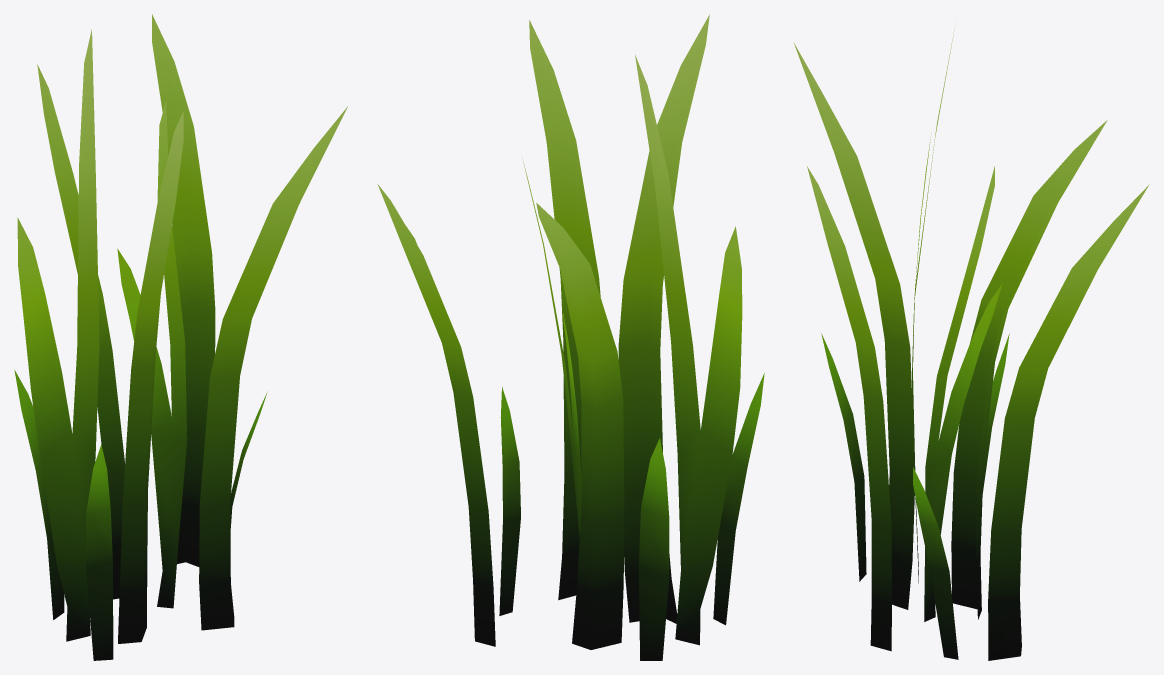
Rendered from grass1.glb.
3 views of the same model, side by side, from view 1: azimuth 30°, elevation 25°; view 2: azimuth 150°, elevation 25°; view 3: azimuth 270°, elevation 25° (orthographic). The views are drawn at different scales.
Visible parts, largest first — view 1: Grass_Common_Short; view 2: Grass_Common_Short; view 3: Grass_Common_Short.
Boxes of the visible parts, x1,y1,x2,y2 form: Grass_Common_Short: (14, 14, 347, 660); Grass_Common_Short: (377, 14, 764, 660); Grass_Common_Short: (793, 27, 1149, 660).
Size of the model in its own units: 0.6389 by 1.33 by 0.7373.
Materials: 1 (1 with a texture image).
